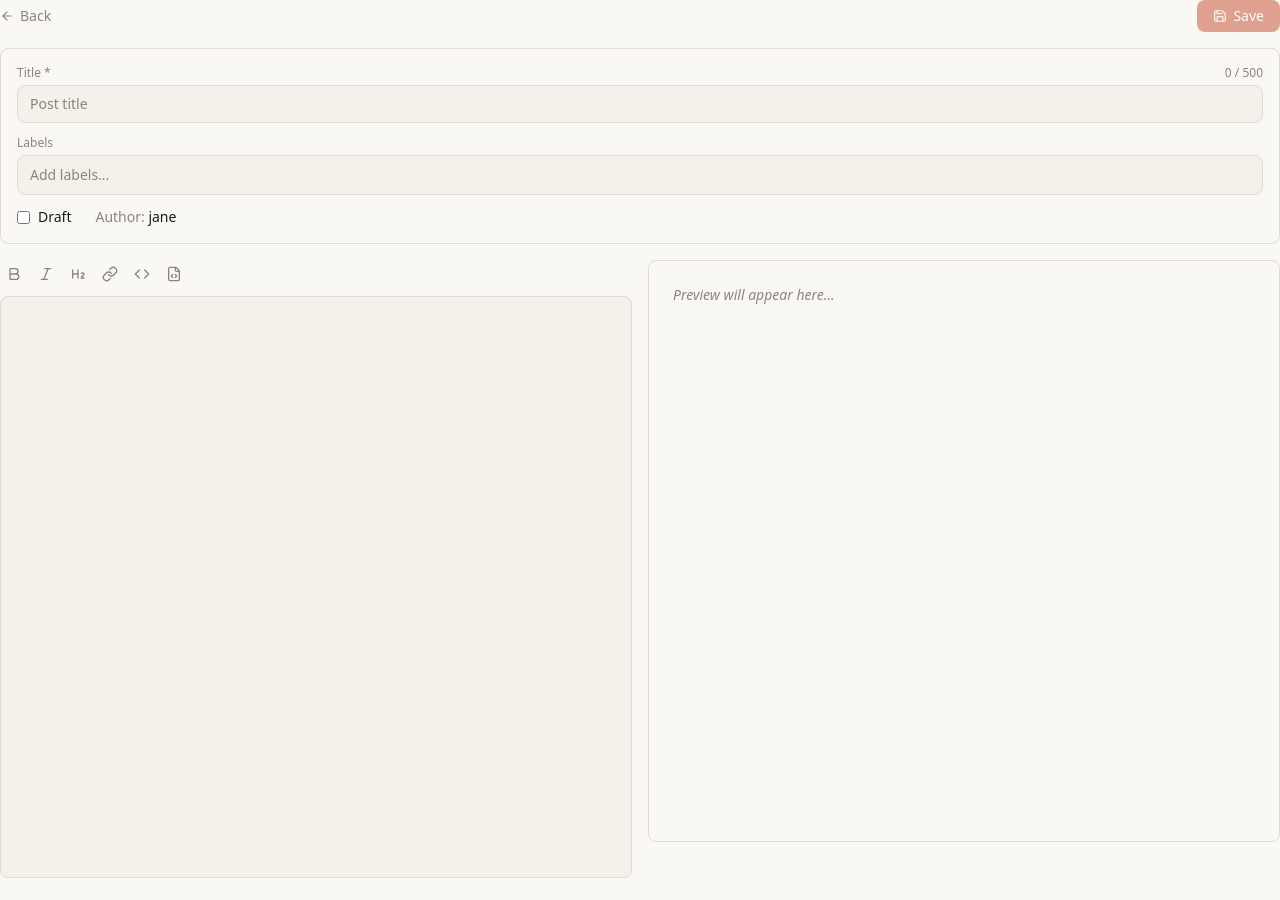
EditorPage › shows 409 conflict error
Type "Test" into the field labelled "Title *". click: (640, 104)
box: top-left (17, 85), bottom-right (1263, 123)
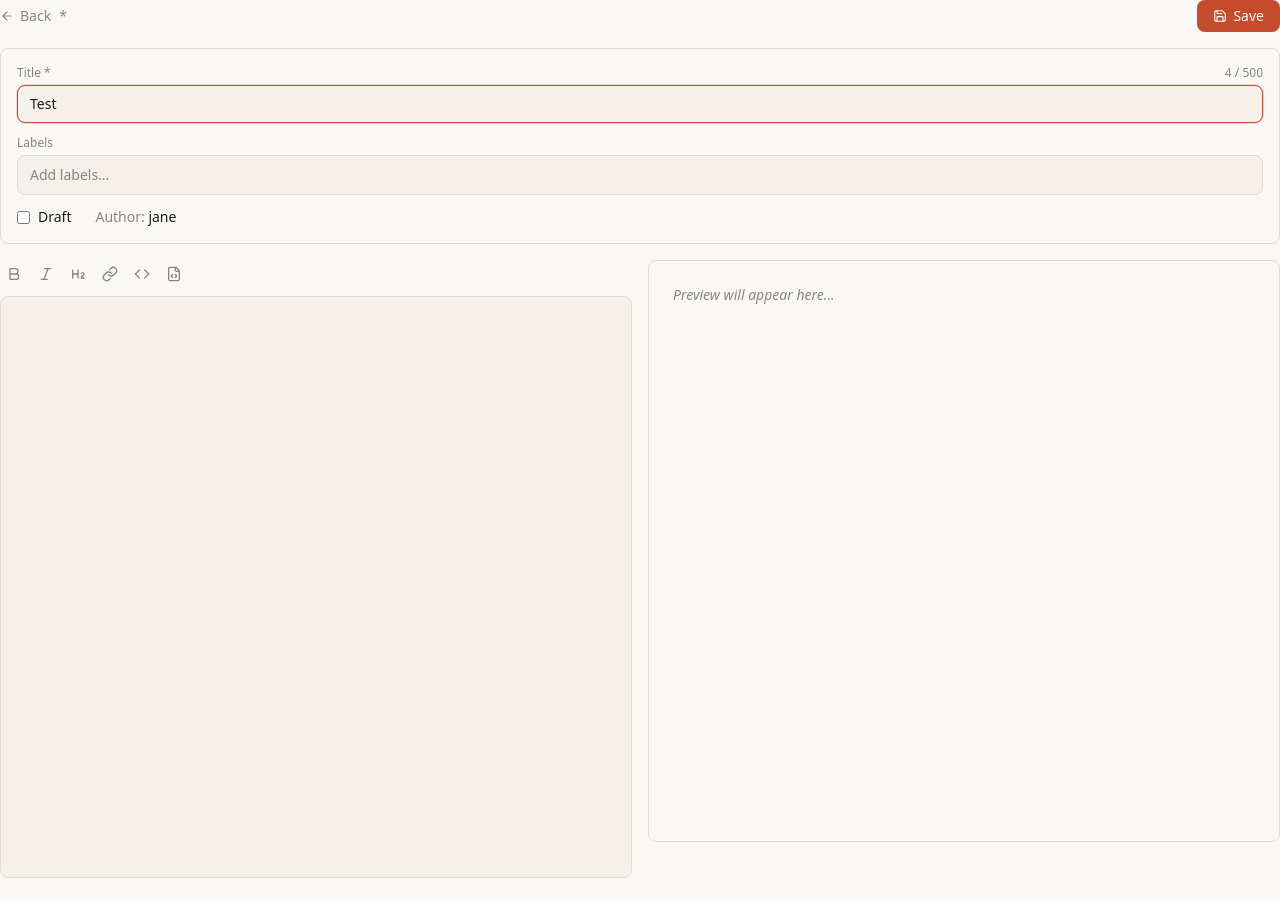
Click the button "Save". click: click(1239, 16)
box: top-left (1197, 0), bottom-right (1279, 32)
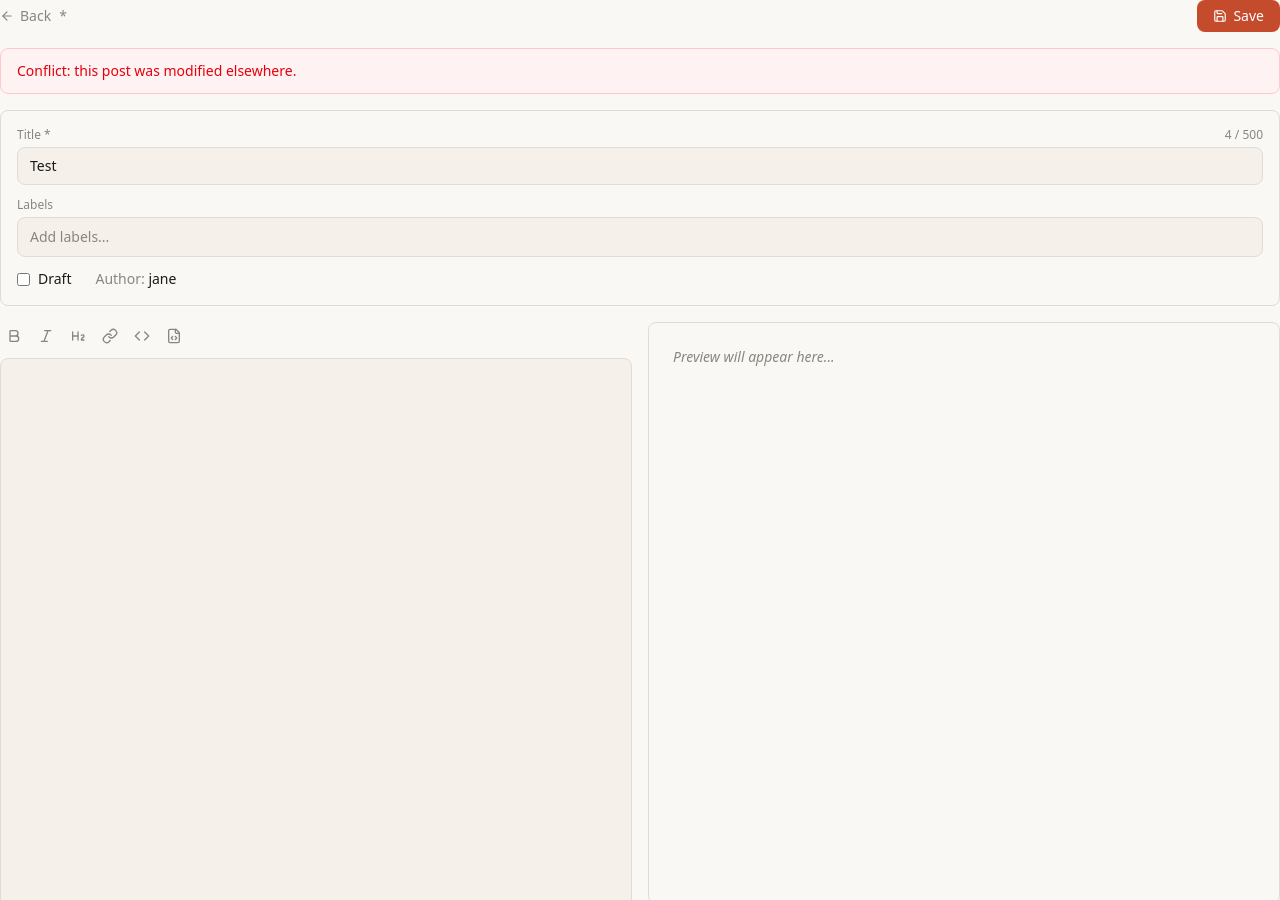
Check: the text "Conflict: this post was modified elsewhere." is shown, box top-left (0, 48), bottom-right (1279, 94)
